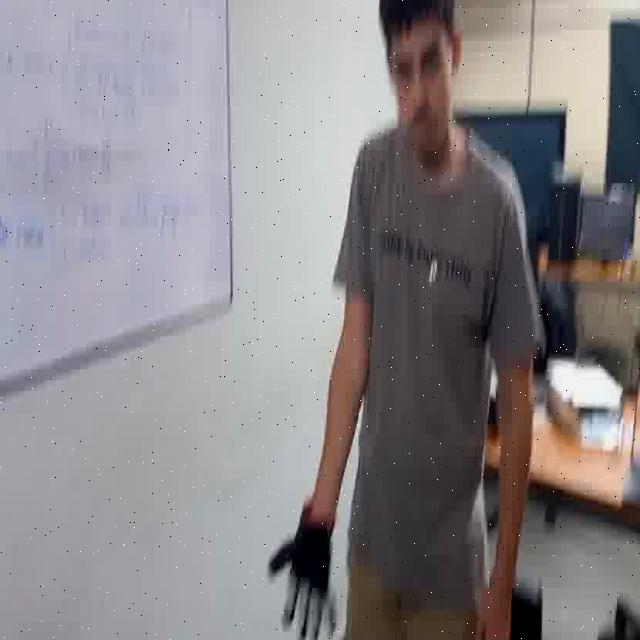Gloves: (270, 499, 336, 640)
